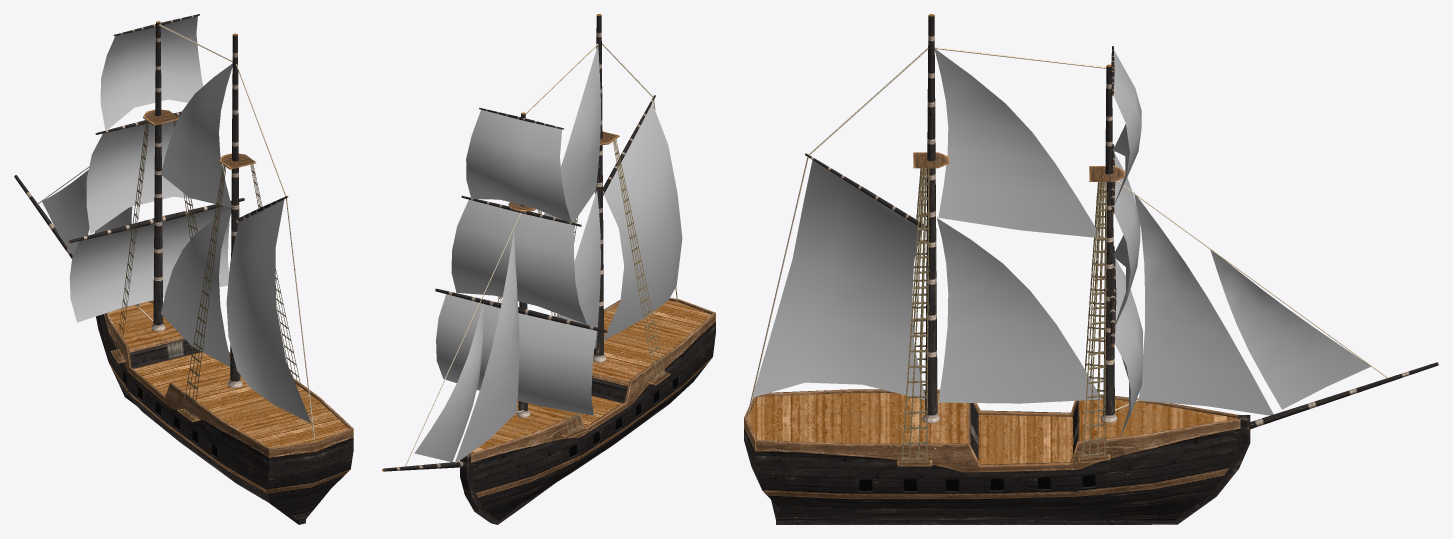
Rendered from SM_Ship.FBX.
3 views of the same model, side by side, from view 1: azimuth 30°, elevation 25°; view 2: azimuth 150°, elevation 25°; view 3: azimuth 270°, elevation 25° (orthographic). The views are drawn at different scales.
Parts seen in each view (by area): view 1: SM_Ship; view 2: SM_Ship; view 3: SM_Ship.
Part boxes in pixels (left/top/right/bottom): SM_Ship: left=14, top=14, right=353, bottom=524; SM_Ship: left=382, top=14, right=715, bottom=524; SM_Ship: left=744, top=14, right=1438, bottom=524.
Size of the model in its own units: 537 by 1604 by 1294.
